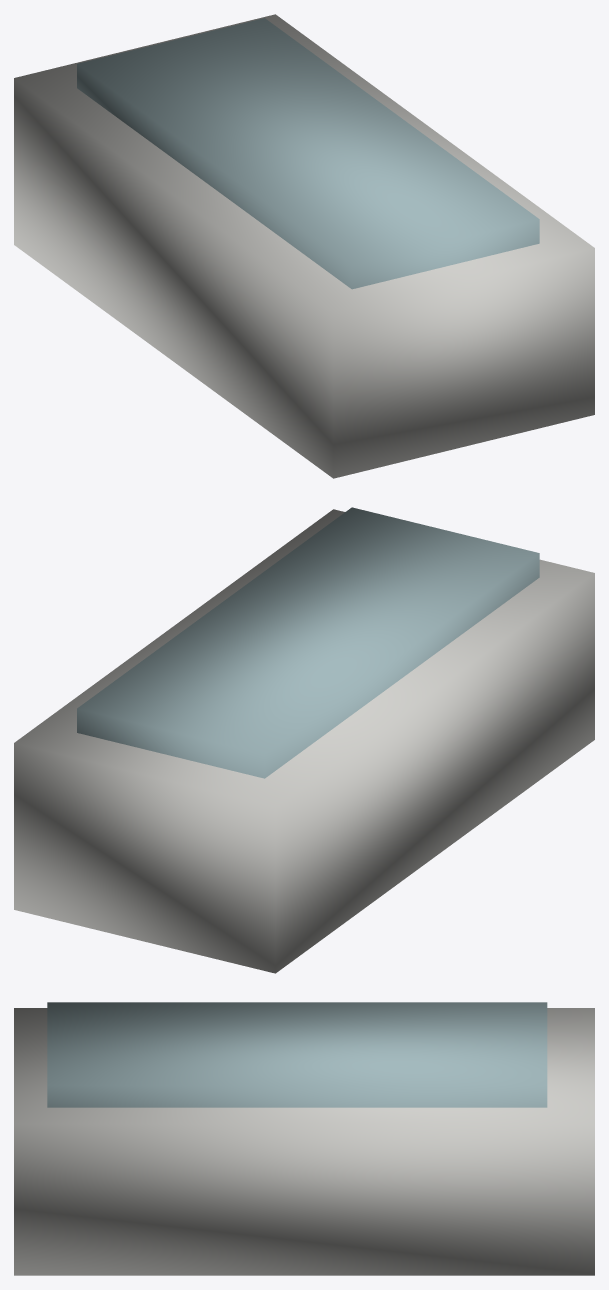
File: bathtub__reinforced.glb
3 views of the same model, one above another, from view 1: azimuth 30°, elevation 25°; view 2: azimuth 150°, elevation 25°; view 3: azimuth 270°, elevation 25° (orthographic). The views are drawn at different scales.
Parts seen in each view (by area): view 1: world; view 2: world; view 3: world.
Part boxes in pixels (x1,y1,x2,y2): world: (14,14,594,478); world: (14,507,594,973); world: (14,1002,594,1275).
Bounding box in the file's own units: 0.8034 × 0.561 × 1.7.
